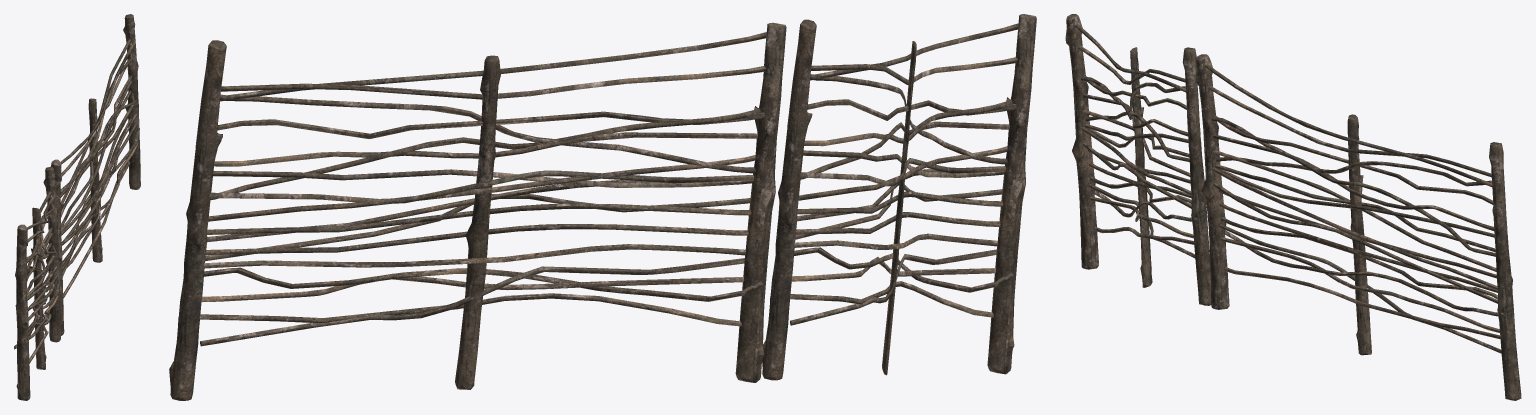
File: SM_Fence_02a_Splines_13.fbx
The picture shows the model from 3 angles, left to right: view 1: azimuth 30°, elevation 25°; view 2: azimuth 150°, elevation 25°; view 3: azimuth 270°, elevation 25°; orthographic projection. The views are drawn at different scales.
Parts seen in each view (by area): view 1: SM_Fence_02a_Splines_13_LOD0; view 2: SM_Fence_02a_Splines_13_LOD0; view 3: SM_Fence_02a_Splines_13_LOD0.
Part boxes in pixels (x1,y1,x2,y2): SM_Fence_02a_Splines_13_LOD0: (14,14,140,400); SM_Fence_02a_Splines_13_LOD0: (169,14,1036,400); SM_Fence_02a_Splines_13_LOD0: (1065,14,1521,400).
Size of the model in its own units: 218 by 222 by 158.
